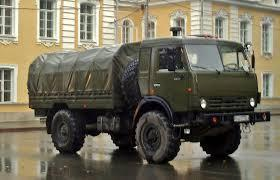truck: (25, 34, 273, 166)
